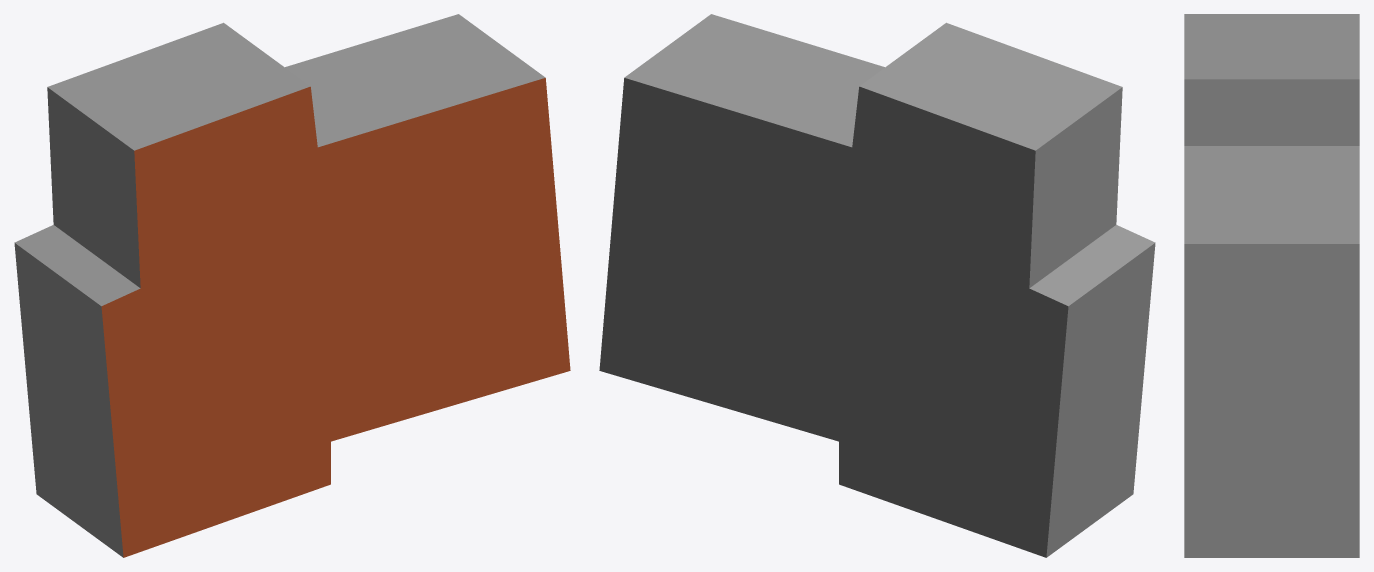
File: construction_0965_assumed_A_Casa_h6m.obj
The picture shows the model from 3 angles, left to right: view 1: azimuth 30°, elevation 25°; view 2: azimuth 150°, elevation 25°; view 3: azimuth 270°, elevation 25°; orthographic projection.
Visible parts, largest first — view 1: construction_0965_assumed_A_Casa; view 2: construction_0965_assumed_A_Casa; view 3: construction_0965_assumed_A_Casa.
Part boxes in pixels (<box>): construction_0965_assumed_A_Casa: <box>14,14,570,557</box>; construction_0965_assumed_A_Casa: <box>599,14,1155,557</box>; construction_0965_assumed_A_Casa: <box>1184,14,1359,557</box>.
Bounding box in the file's own units: 18.67 × 16.2 × 6.
